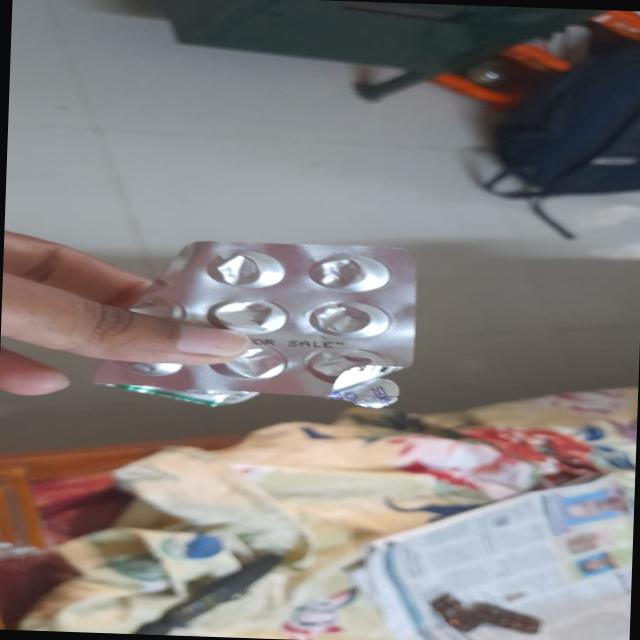Blister_Packs - Non Recyclable: (86, 233, 422, 414)
